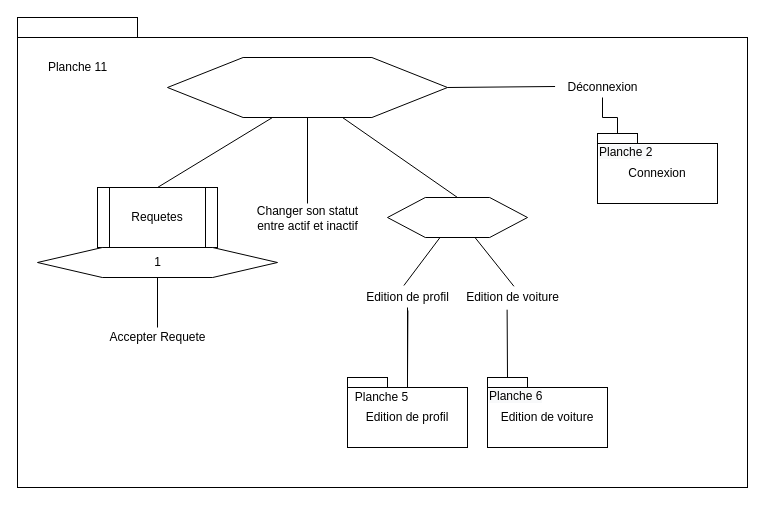
This 765x505 diagram has some shape labels left out. Each missing label, with the centre of its shape:
Menu déroulant: [457,217]
Selectionner une requete: [307,87]
